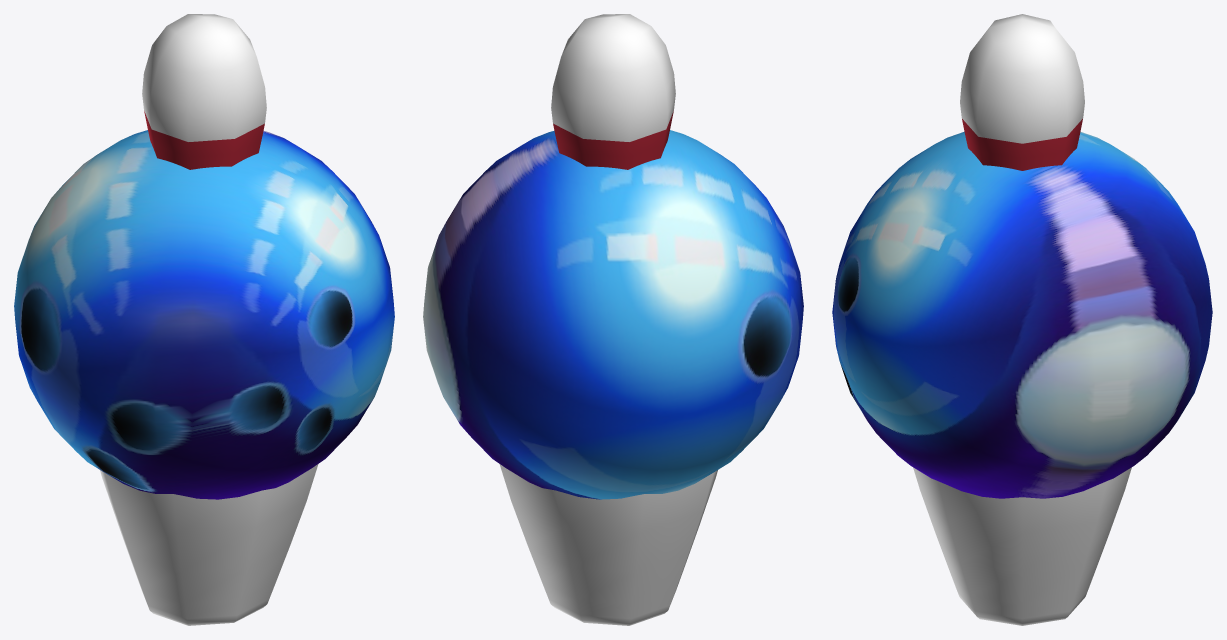
The model's file is bowling.fbx.
3 views of the same model, side by side, from view 1: azimuth 30°, elevation 25°; view 2: azimuth 150°, elevation 25°; view 3: azimuth 270°, elevation 25° (orthographic).
Parts seen in each view (by area): view 1: Sphere, BOWLING; view 2: Sphere, BOWLING; view 3: Sphere, BOWLING.
Part boxes in pixels (x1,y1,x2,y2): Sphere: [14, 130, 394, 499]; BOWLING: [100, 14, 318, 625]; Sphere: [423, 130, 803, 499]; BOWLING: [499, 14, 717, 625]; Sphere: [832, 131, 1212, 498]; BOWLING: [913, 14, 1131, 625].
Bounding box in the file's own units: 200 × 200 × 340.
